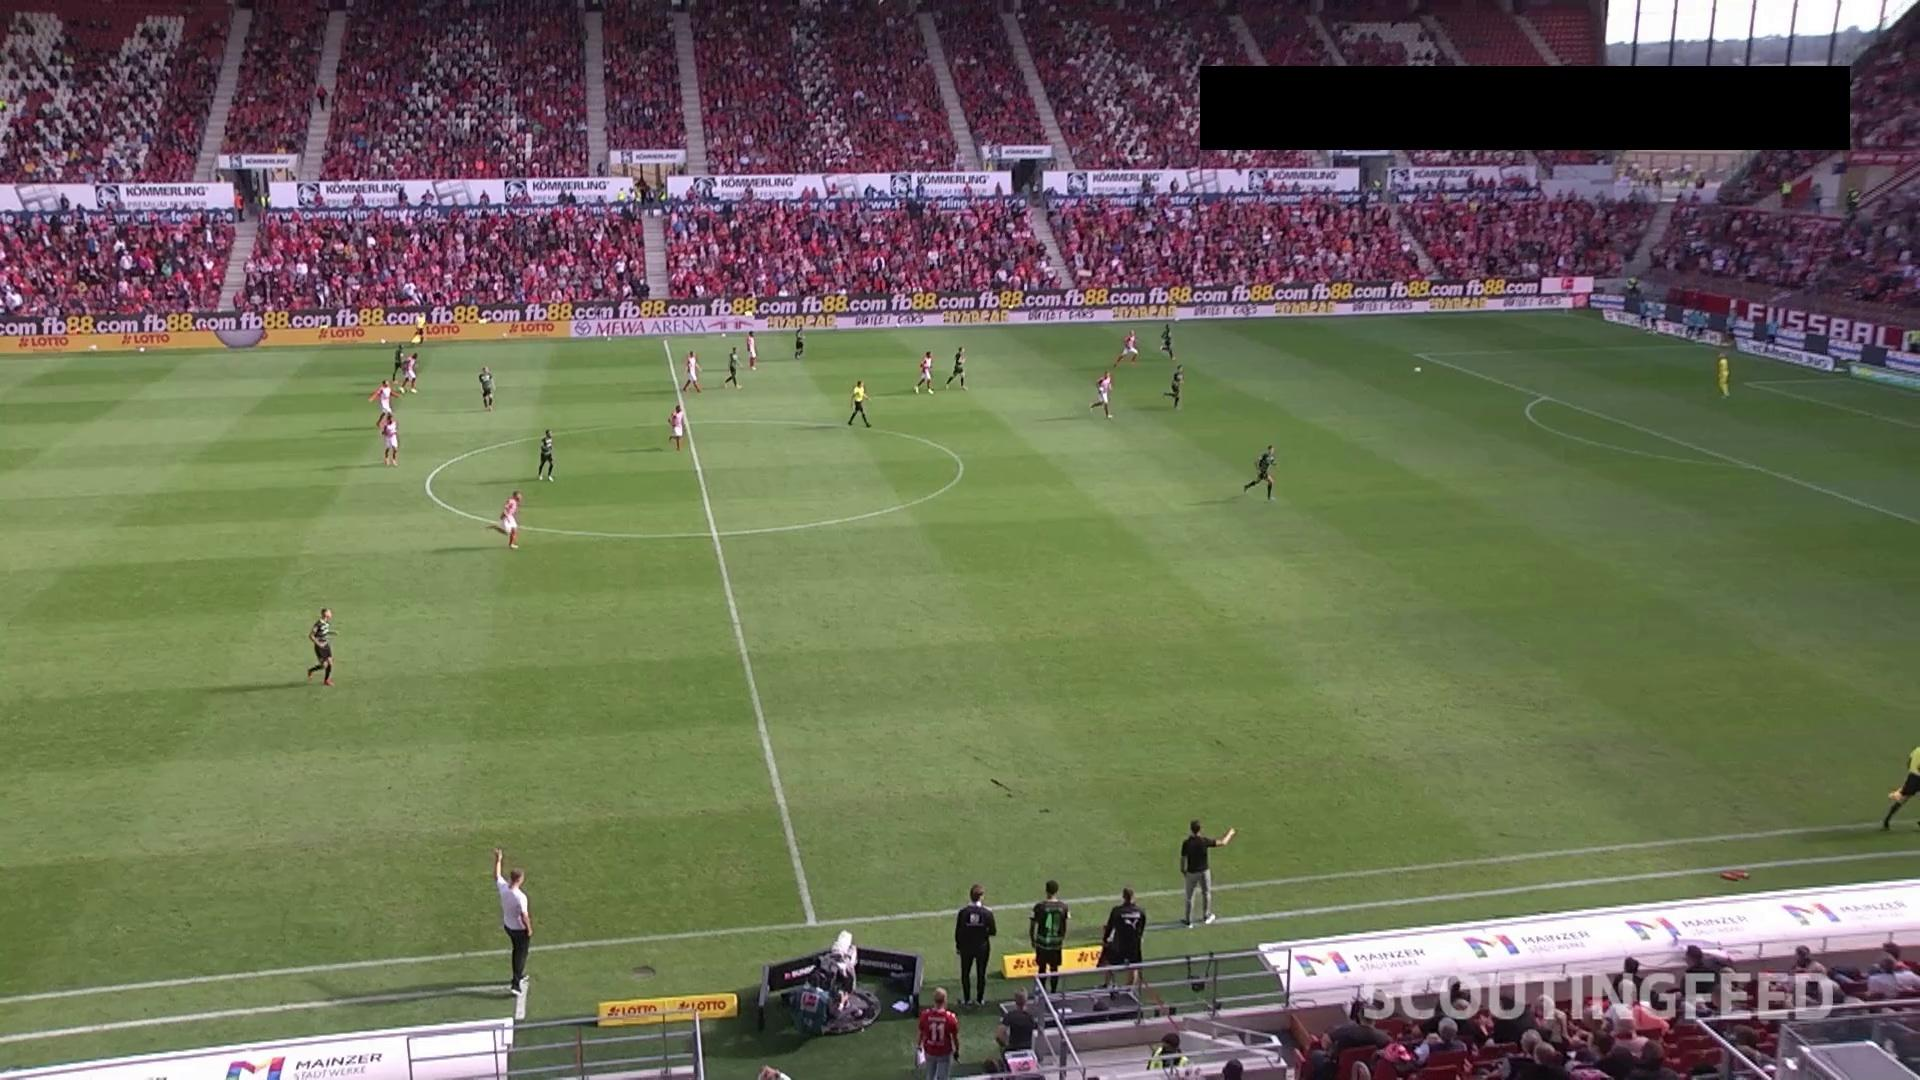Location-of-ball: (1402, 356, 1439, 384)
